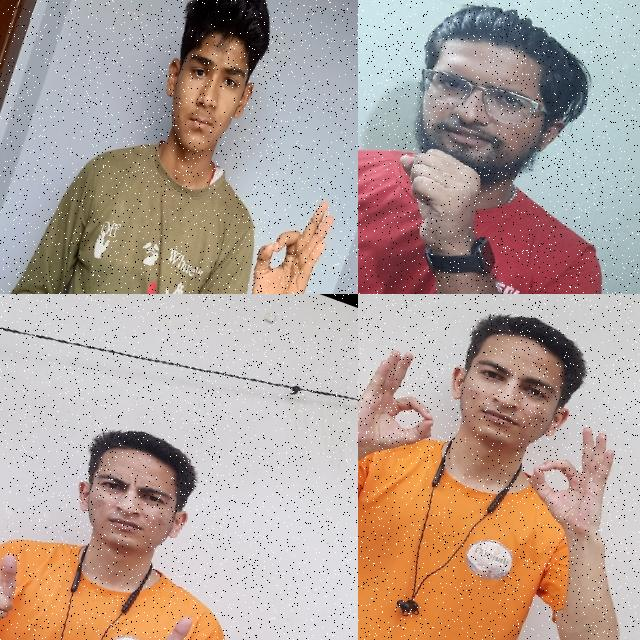Fist Mouth: (358, 0, 590, 284)
Okay: (509, 402, 640, 549), (358, 329, 462, 485), (222, 178, 348, 294)
Thumbs Up: (122, 599, 223, 640), (0, 537, 36, 640)
